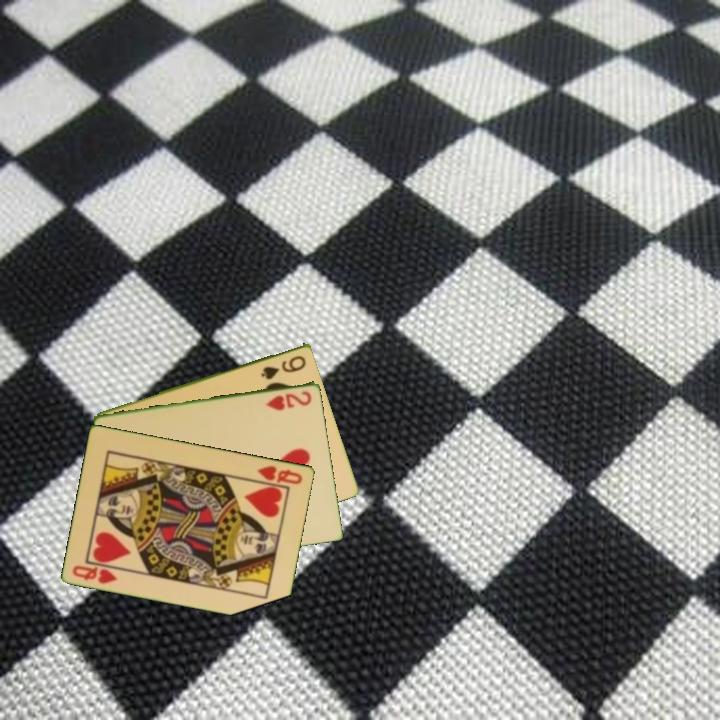2h: (262, 387, 314, 413)
9s: (257, 352, 309, 382)
Qh: (254, 462, 306, 487), (69, 562, 120, 586)
